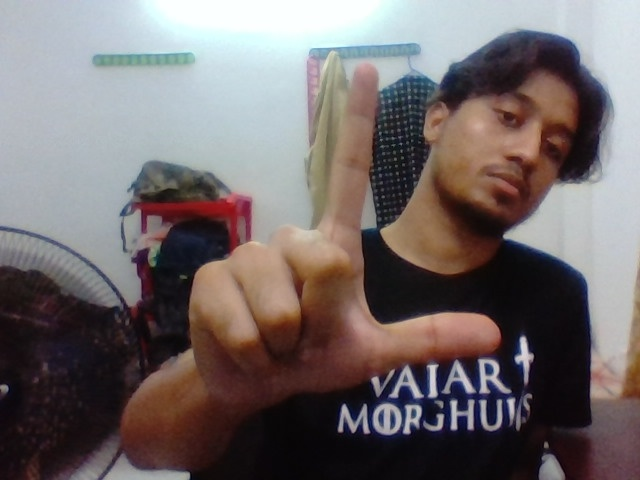L: (289, 51, 519, 365)
